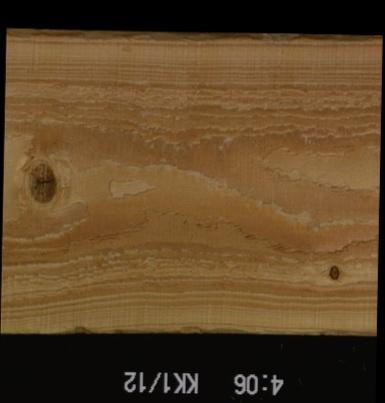dry_knot: (327, 263, 339, 281)
sound_knot: (24, 160, 58, 204)
wave: (4, 30, 381, 43), (170, 324, 259, 334), (296, 328, 375, 336)
